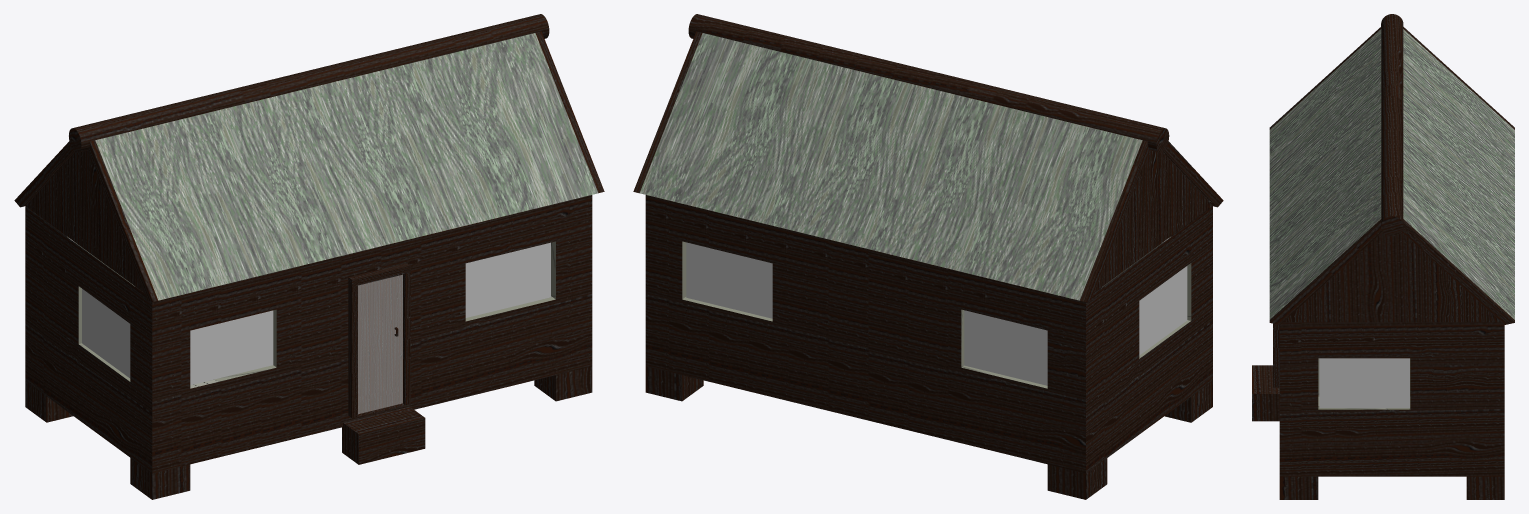
The model's file is MudHouse_low.fbx.
The picture shows the model from 3 angles, left to right: view 1: azimuth 30°, elevation 25°; view 2: azimuth 150°, elevation 25°; view 3: azimuth 270°, elevation 25°; orthographic projection. The views are drawn at different scales.
Parts seen in each view (by area): view 1: HouseLow; view 2: HouseLow; view 3: HouseLow.
Part boxes in pixels (x1=…): HouseLow: x1=14, y1=14, x2=604, y2=499; HouseLow: x1=633, y1=14, x2=1223, y2=499; HouseLow: x1=1252, y1=14, x2=1514, y2=499.
Bounding box in the file's own units: 6.38 × 4.27 × 3.51.
